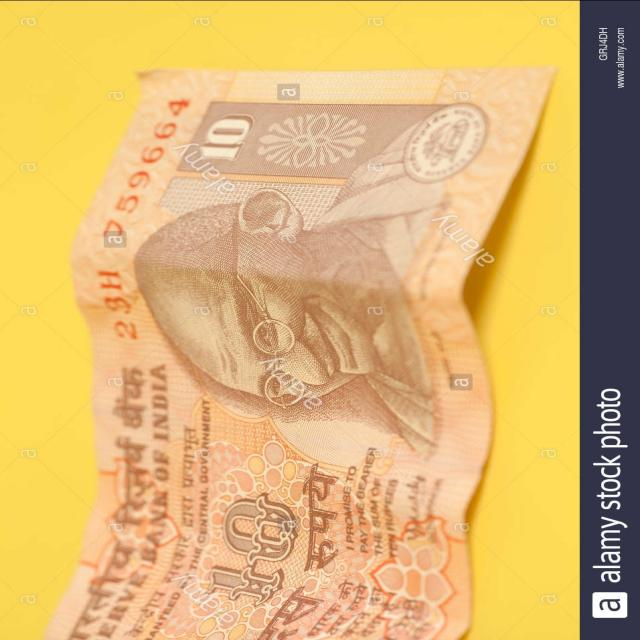10IndianRupees: (68, 62, 555, 639)
